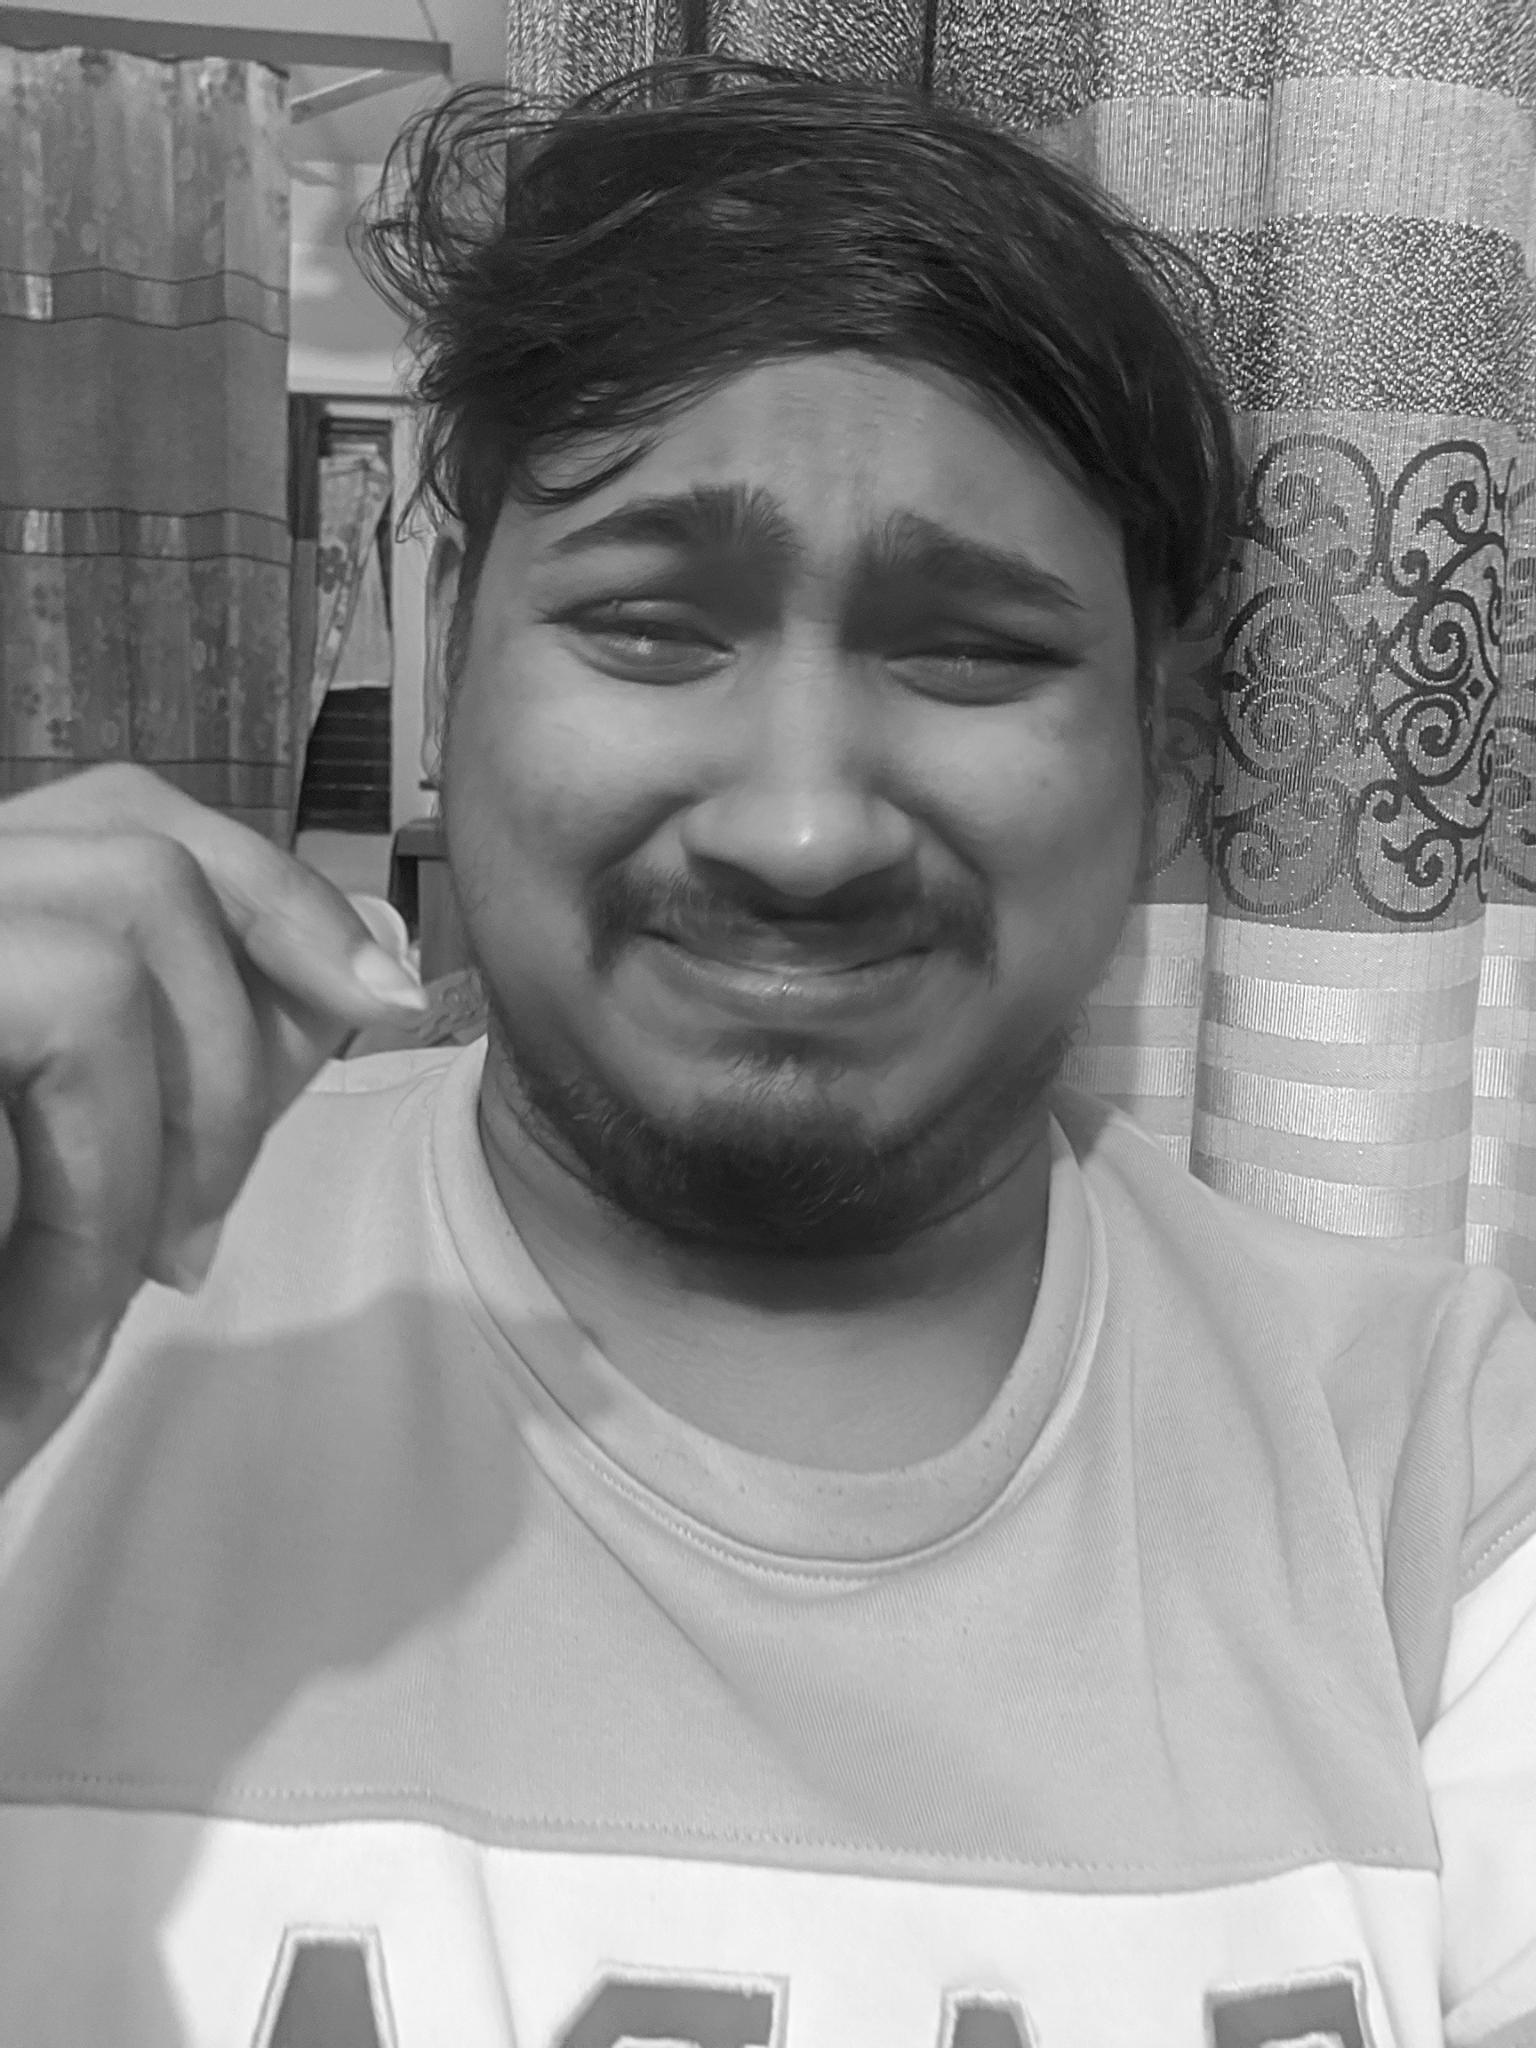Disgust: (499, 366, 1126, 1226)
